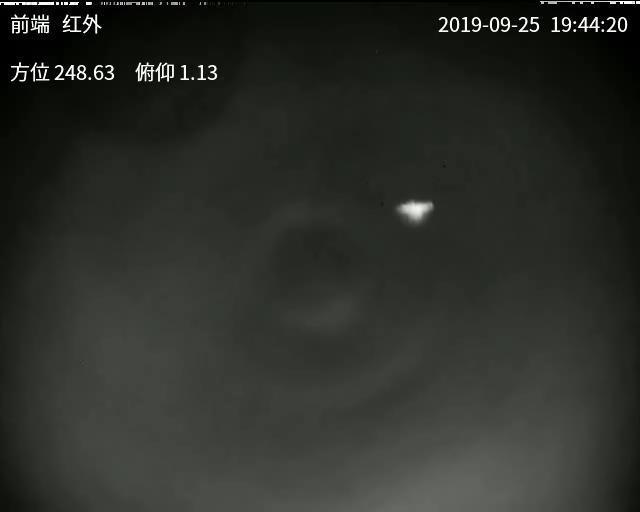uav: (395, 196, 434, 227)
